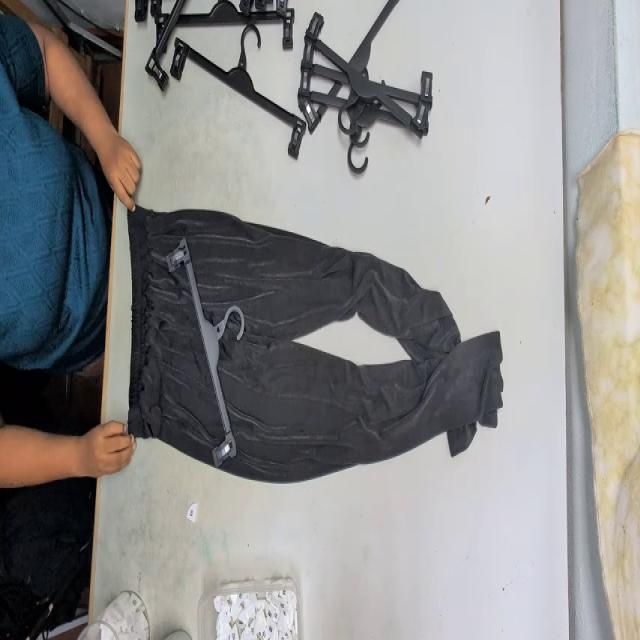new-garment: (128, 208, 503, 481)
